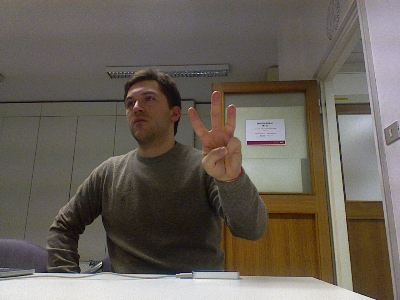三分: (186, 88, 243, 180)
